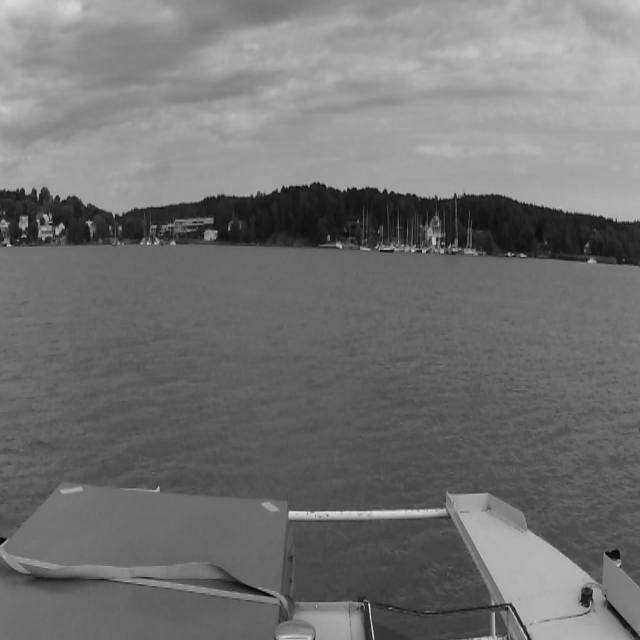ship: (380, 206, 394, 254), (360, 208, 371, 252), (140, 212, 146, 246), (146, 214, 152, 246), (170, 217, 176, 246), (112, 223, 116, 246), (587, 258, 597, 265)
